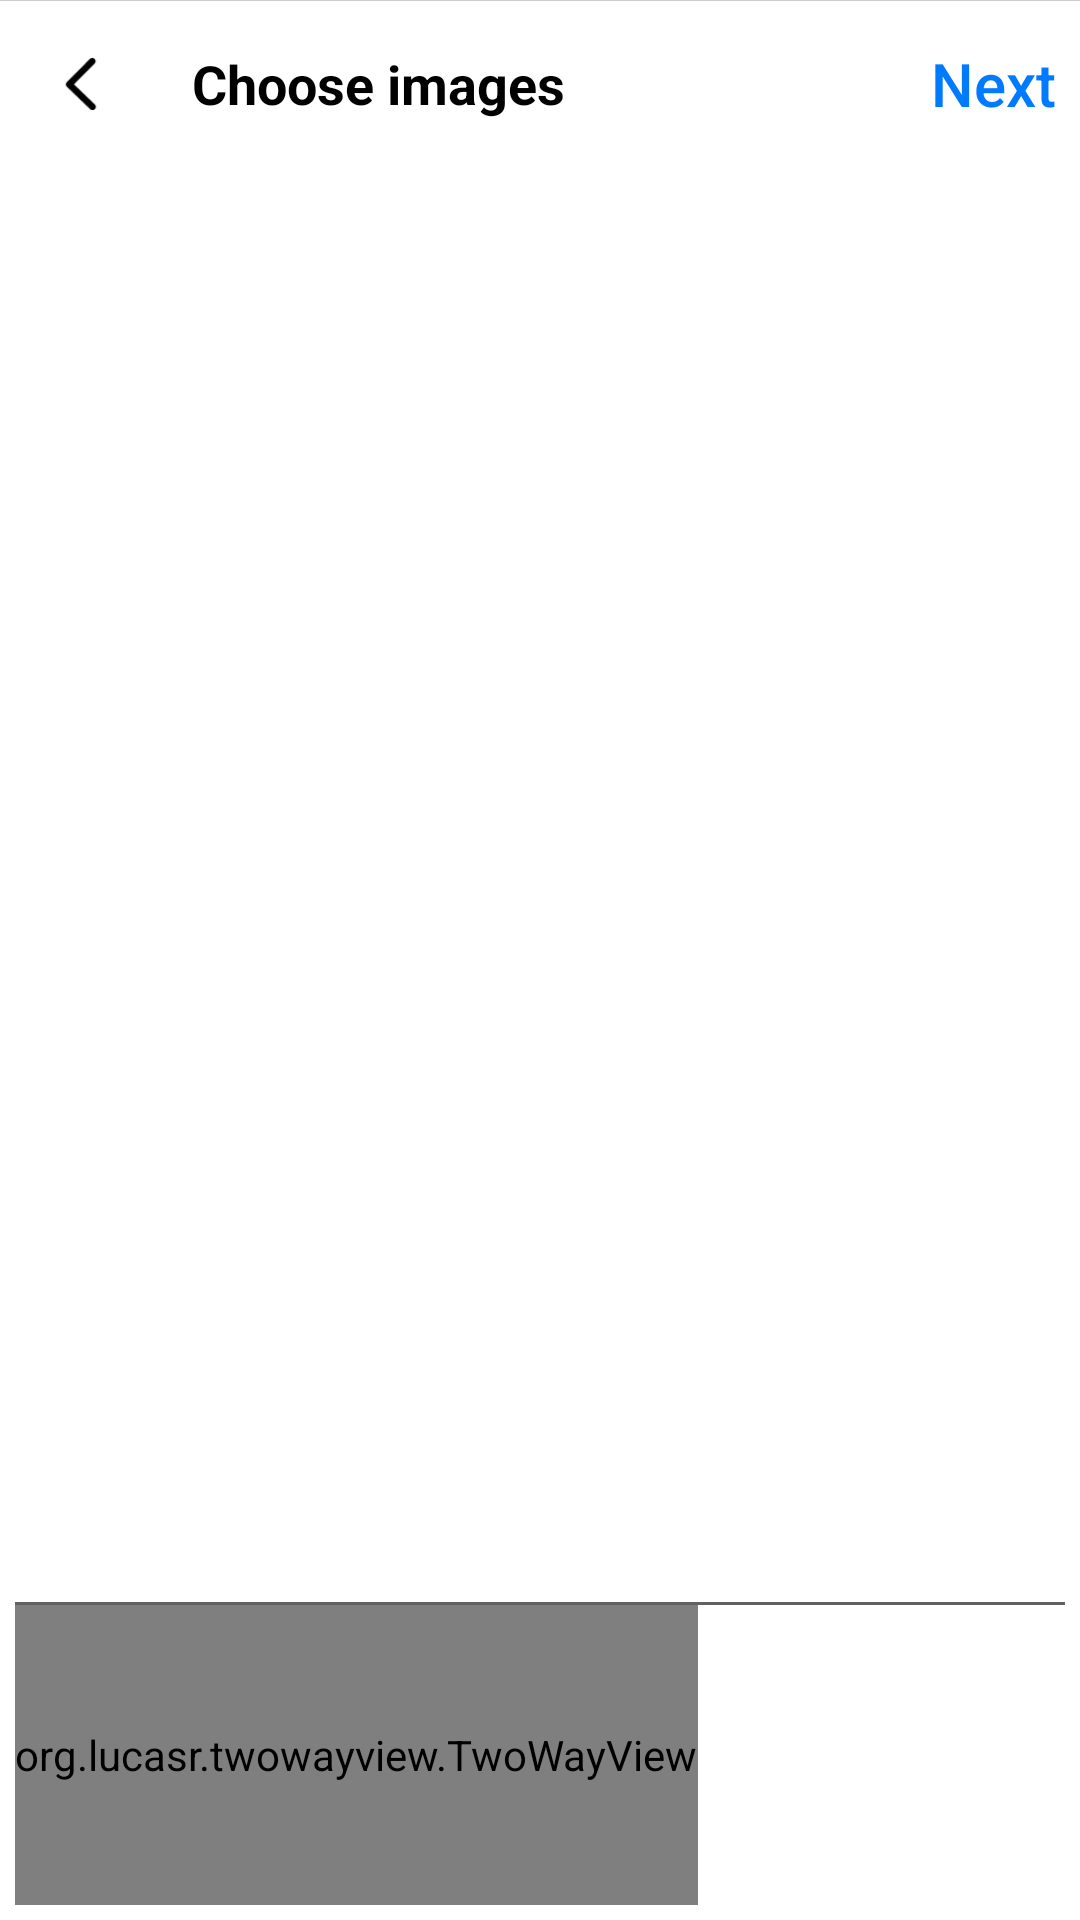

Icons on this 1080 × 1920 Android screen, each with the point to tap as [x,y]:
arrow back: [81,84]
